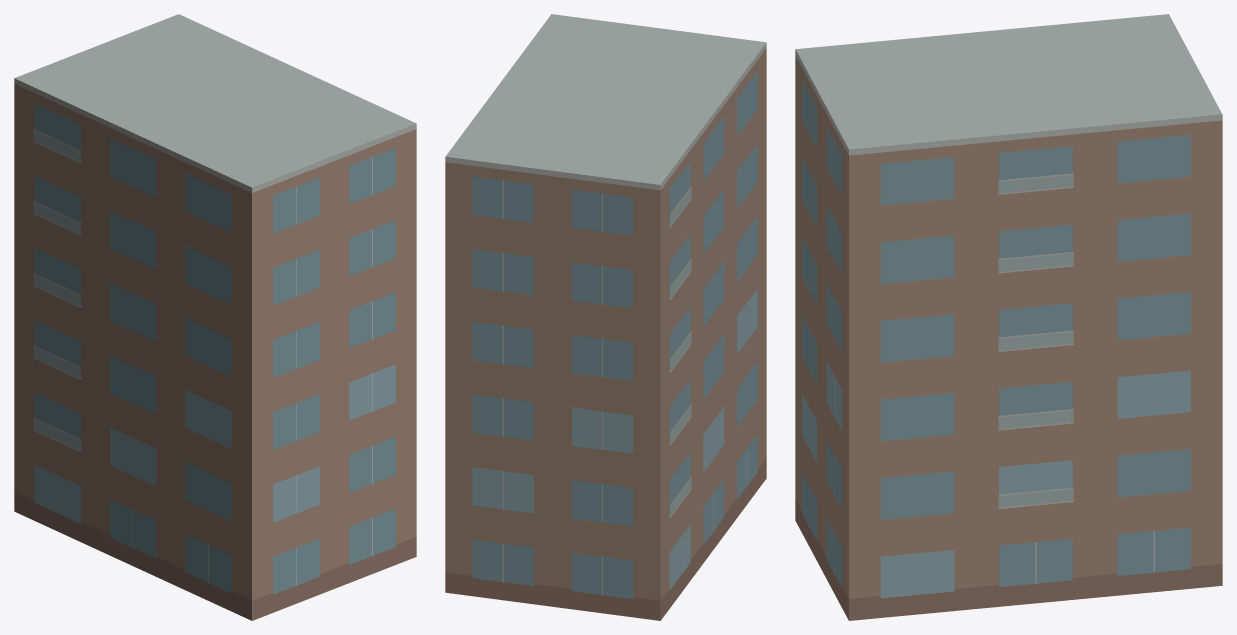
The model's file is survey-upis-32770071.glb.
3 views of the same model, side by side, from view 1: azimuth 30°, elevation 25°; view 2: azimuth 150°, elevation 25°; view 3: azimuth 270°, elevation 25° (orthographic). The views are drawn at different scales.
Parts seen in each view (by area): view 1: survey-upis-32770071.tmp; view 2: survey-upis-32770071.tmp; view 3: survey-upis-32770071.tmp.
Part boxes in pixels (left/top/right/bottom): survey-upis-32770071.tmp: left=14, top=14, right=416, bottom=620; survey-upis-32770071.tmp: left=445, top=14, right=766, bottom=620; survey-upis-32770071.tmp: left=795, top=14, right=1222, bottom=620.
Bounding box in the file's own units: 11.98 × 19.4 × 15.94.
